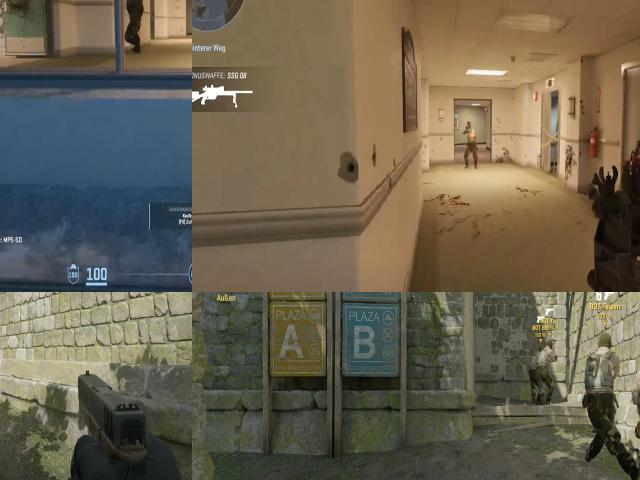Bomb: (585, 352, 603, 383)
CT: (124, 0, 142, 41)
T: (584, 329, 624, 476), (539, 337, 557, 406), (528, 342, 546, 402), (462, 115, 478, 162)
T-Head: (592, 328, 618, 354), (546, 338, 556, 353), (464, 118, 474, 132), (538, 346, 546, 355)
